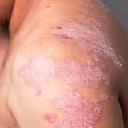Psoriasis: (55, 22, 124, 59), (56, 90, 111, 128), (71, 68, 109, 85)
